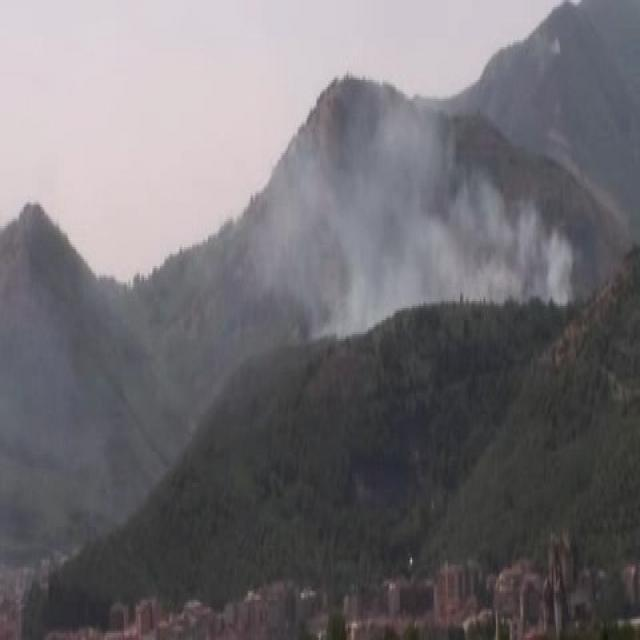smoke: (294, 126, 456, 298)
